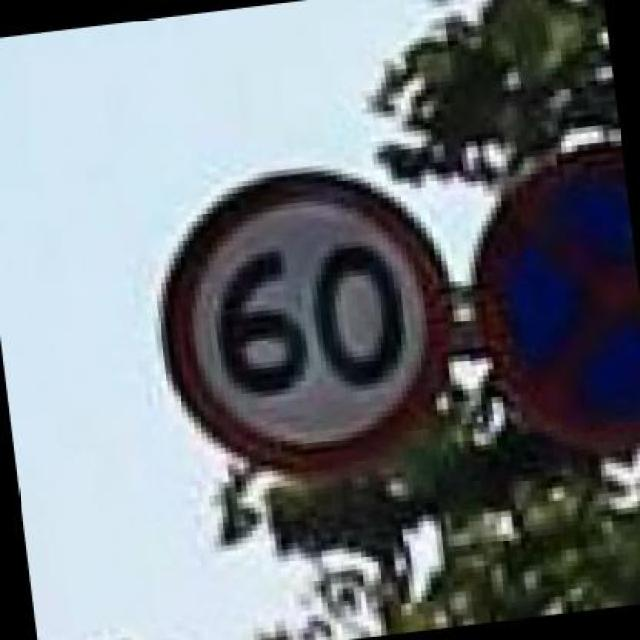Limite-60: (155, 167, 456, 481)
